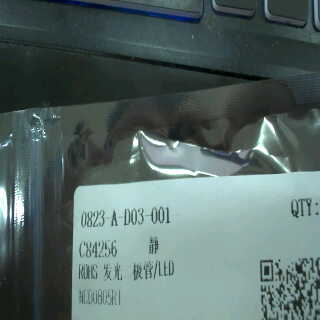LED: (104, 257, 177, 279)
